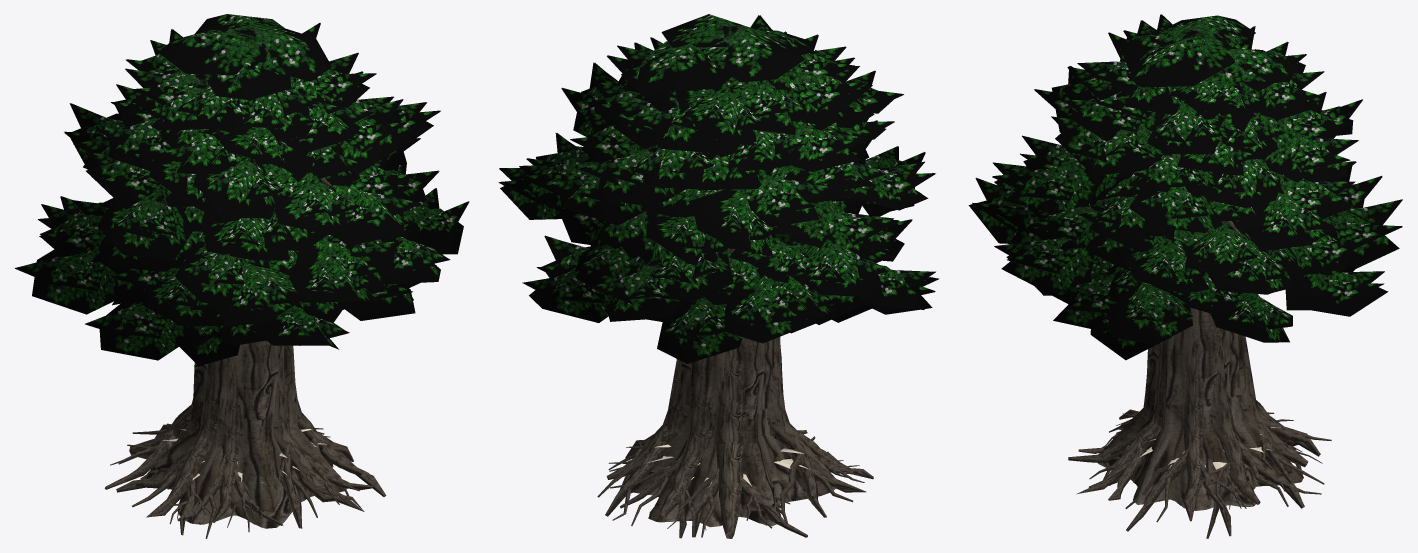
The model's file is 115-hesperidestree.glb.
3 views of the same model, side by side, from view 1: azimuth 30°, elevation 25°; view 2: azimuth 150°, elevation 25°; view 3: azimuth 270°, elevation 25° (orthographic). The views are drawn at different scales.
Size of the model in its own units: 12.91 by 14.46 by 12.27.
6 materials, 2 textured.
